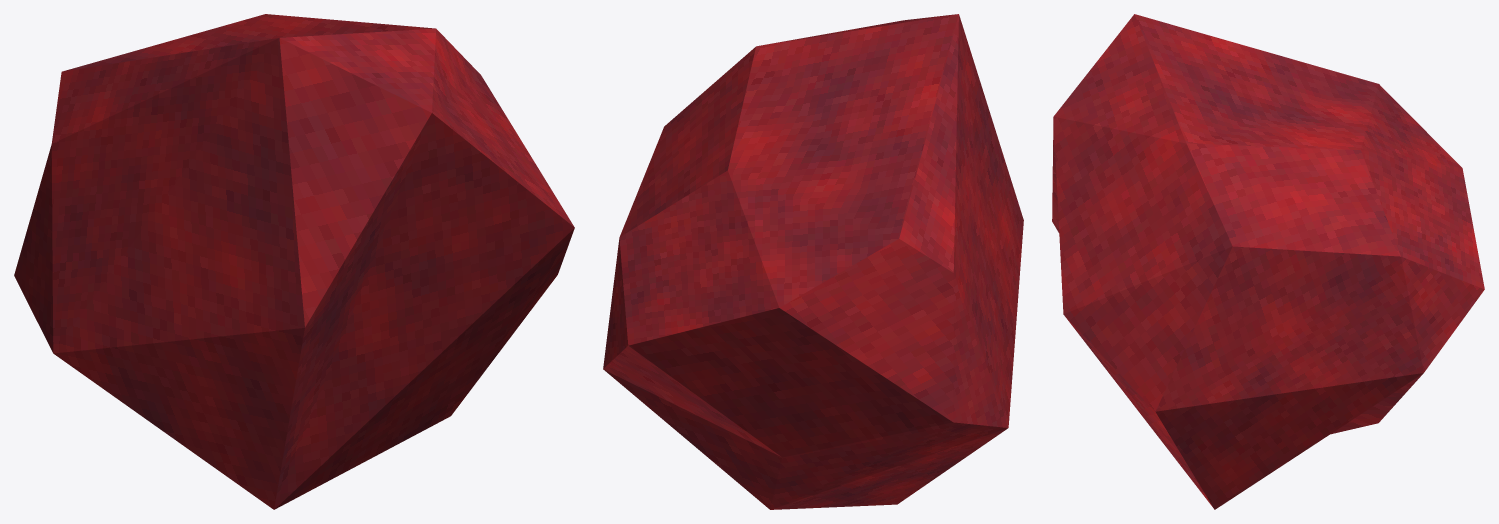
File: gib_generic_1.glb
The picture shows the model from 3 angles, left to right: view 1: azimuth 30°, elevation 25°; view 2: azimuth 150°, elevation 25°; view 3: azimuth 270°, elevation 25°; orthographic projection. The views are drawn at different scales.
Parts seen in each view (by area): view 1: gib_type1; view 2: gib_type1; view 3: gib_type1.
Boxes of the visible parts, <box> form: gib_type1: <box>14,14,574,509</box>; gib_type1: <box>603,14,1023,509</box>; gib_type1: <box>1052,14,1484,509</box>.
Size of the model in its own units: 0.3688 by 0.4142 by 0.3703.
1 material, 1 textured.
